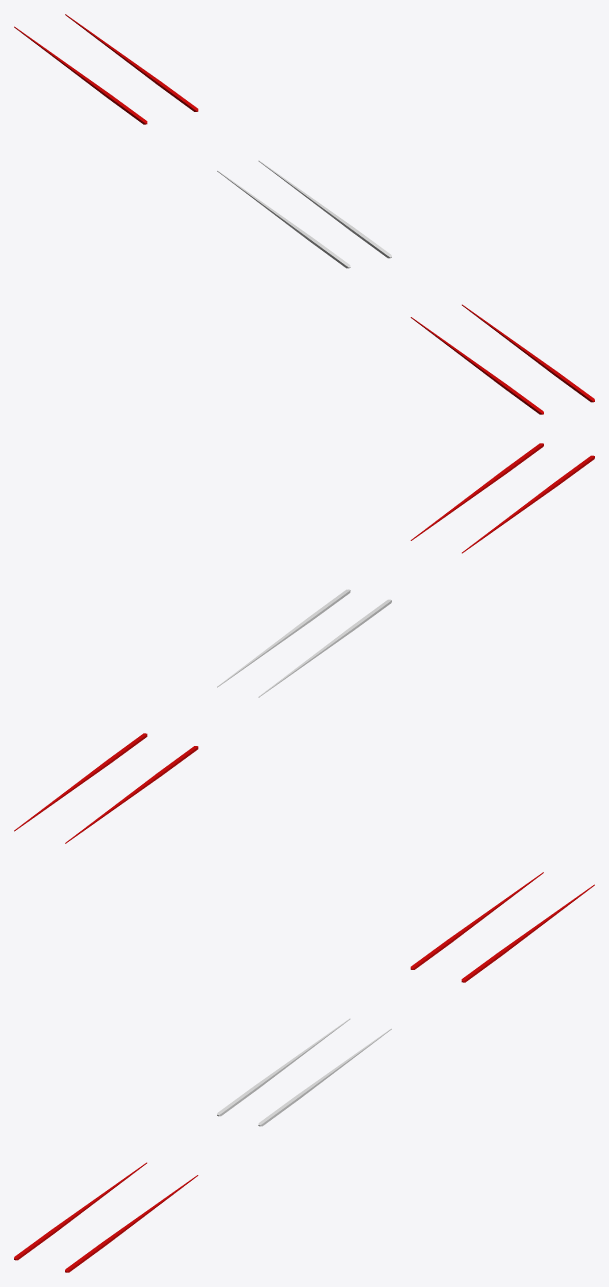
Rendered from OP_8200_BEAM.glb.
The picture shows the model from 3 angles, top to bottom: view 1: azimuth 30°, elevation 25°; view 2: azimuth 150°, elevation 25°; view 3: azimuth 330°, elevation 25°; orthographic projection.
Visible parts, largest first — view 1: obj1; view 2: obj1; view 3: obj1.
Part boxes in pixels (box(x1,y1,x2,y2)): obj1: box(14, 14, 594, 414); obj1: box(14, 443, 594, 843); obj1: box(14, 872, 594, 1272).
Size of the model in its own units: 4.78 by 0.2041 by 80.
